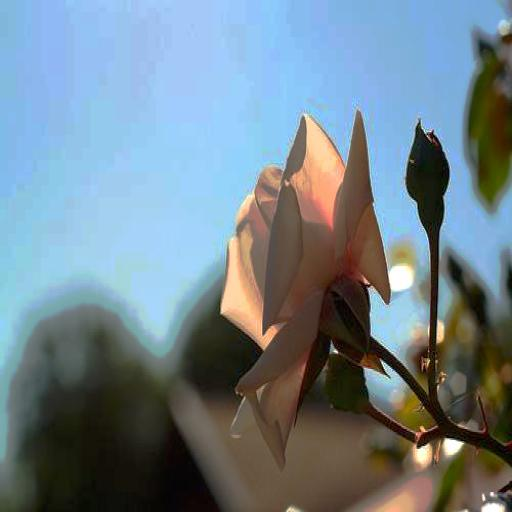rose: (213, 108, 385, 440)
